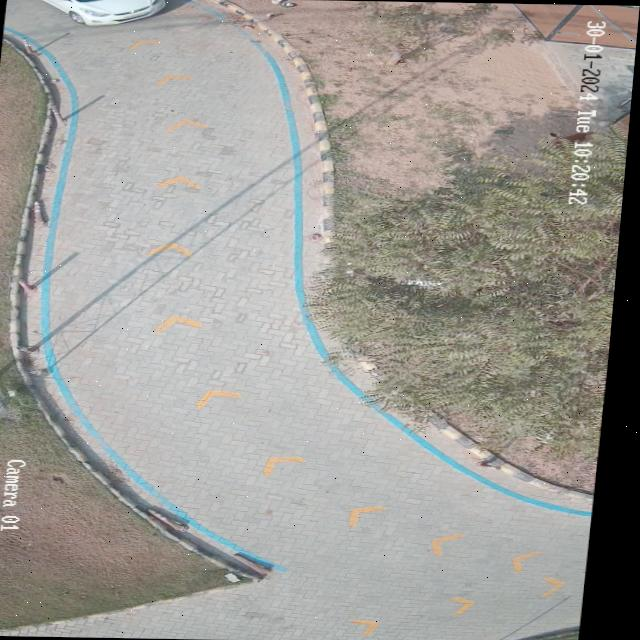car: (38, 0, 163, 25)
